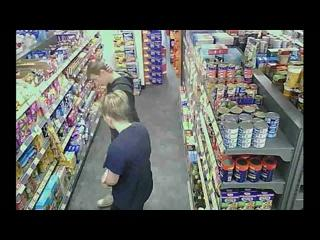Normal: (98, 90, 154, 210), (86, 60, 140, 126)
